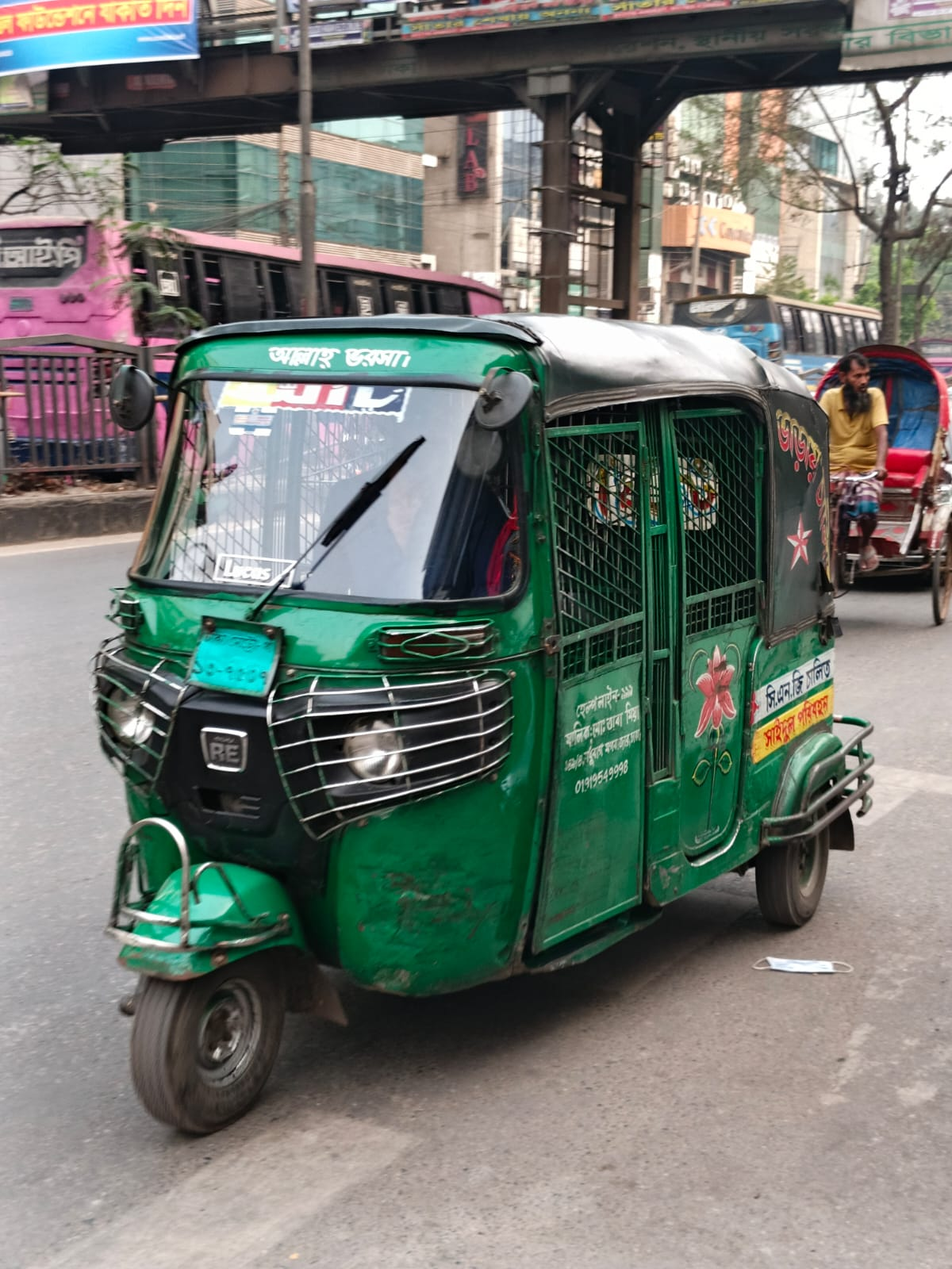Bus: (5, 178, 787, 490), (611, 212, 933, 378)
auto-ricksaw: (809, 326, 952, 667)
cng: (61, 238, 912, 1177)
